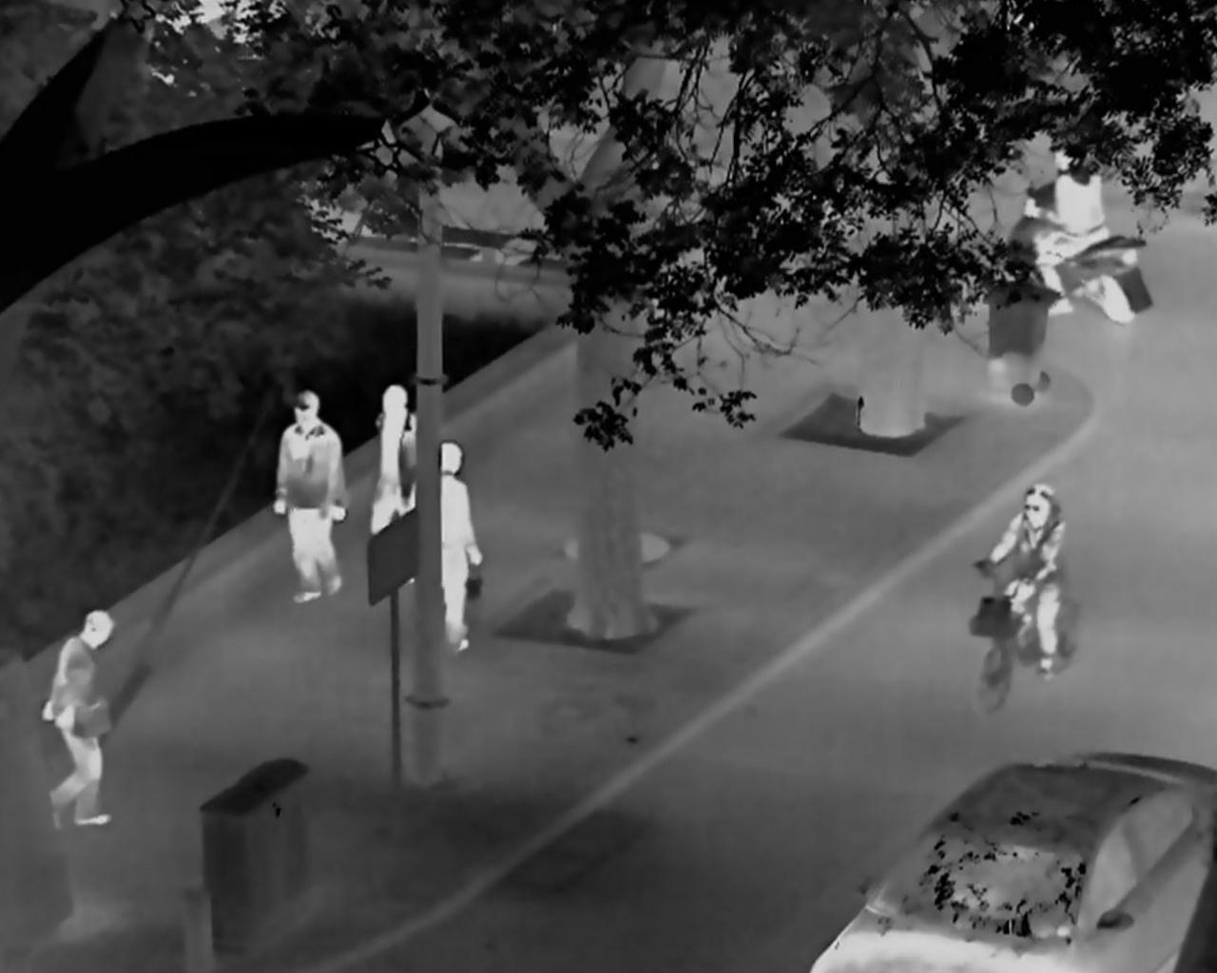person: (40, 608, 116, 830), (273, 390, 349, 603), (1027, 137, 1110, 317), (987, 483, 1062, 680), (439, 437, 482, 651), (370, 385, 416, 533)
